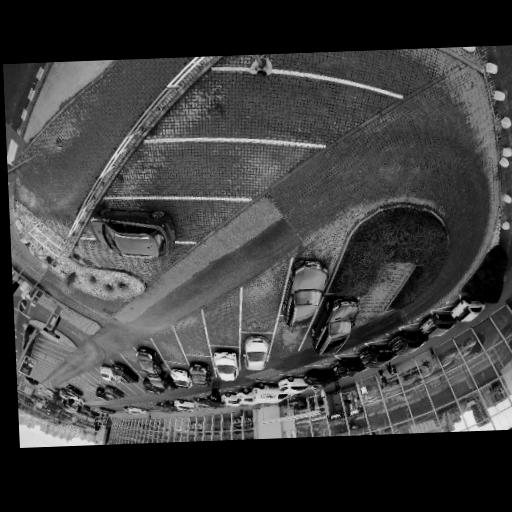busy: (83, 207, 176, 262), (279, 262, 329, 331), (316, 296, 364, 352), (238, 334, 274, 374), (211, 349, 243, 385), (418, 314, 454, 340), (98, 362, 136, 386), (134, 347, 165, 376), (357, 344, 394, 368), (447, 299, 483, 323), (387, 332, 423, 356), (306, 370, 337, 389), (278, 377, 307, 397), (190, 360, 211, 386), (168, 368, 192, 390), (149, 374, 171, 392), (59, 386, 83, 402), (103, 385, 125, 400), (140, 381, 162, 396), (97, 388, 120, 402), (194, 398, 216, 410), (224, 393, 242, 407), (174, 399, 193, 411), (156, 401, 175, 412), (127, 405, 146, 416), (99, 406, 114, 414)
free: (223, 67, 305, 141), (173, 133, 237, 198), (244, 289, 282, 319), (207, 310, 235, 336), (272, 330, 298, 354), (184, 331, 204, 350), (163, 343, 181, 358), (131, 385, 142, 392)
